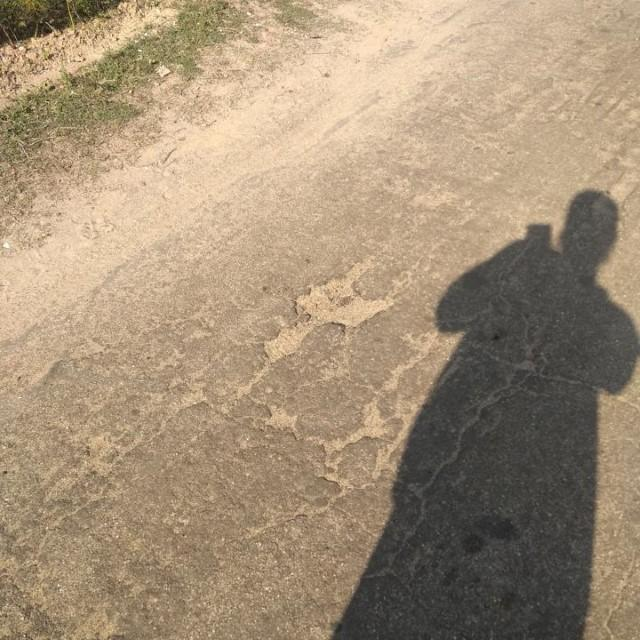pothole: (264, 263, 393, 362)
